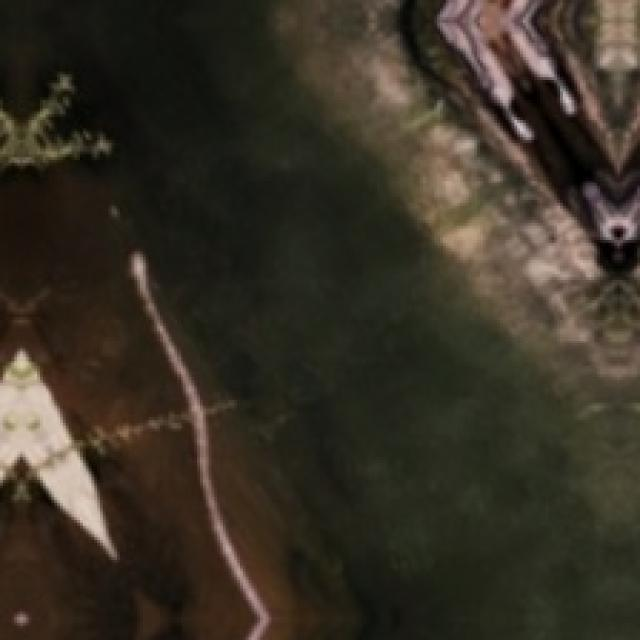king cobra: (434, 0, 637, 269)
